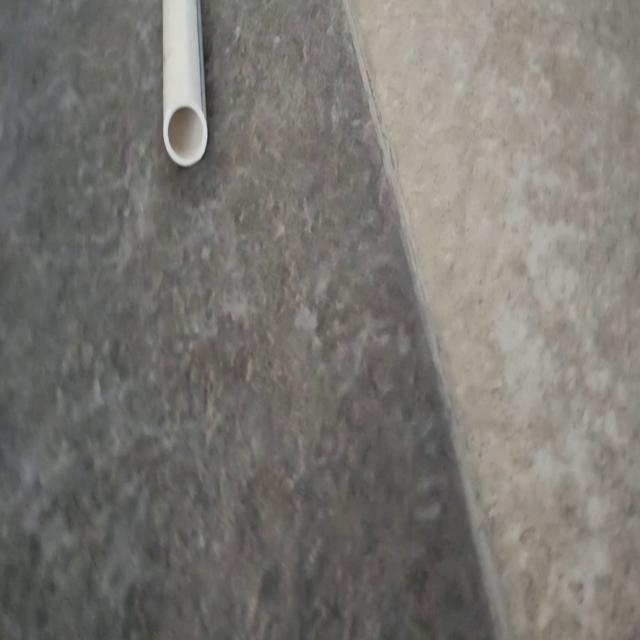Cube: (160, 0, 208, 167)
